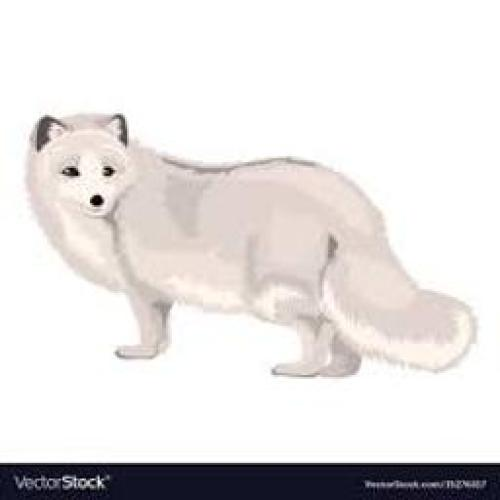arctic_fox-endangered: (28, 110, 478, 379)
